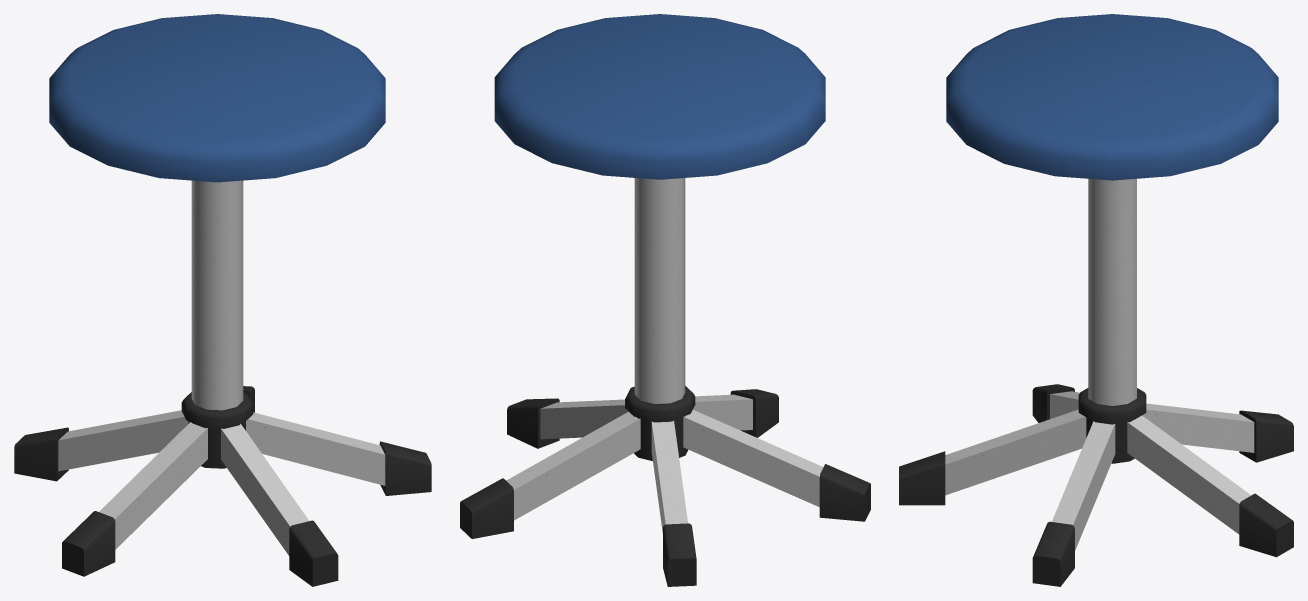
3 renders of one model, left to right at view 1: azimuth 30°, elevation 25°; view 2: azimuth 150°, elevation 25°; view 3: azimuth 270°, elevation 25°, orthographic.
Parts seen in each view (by area): view 1: SM_凳子; view 2: SM_凳子; view 3: SM_凳子.
Boxes of the visible parts, x1=… form: SM_凳子: x1=14, y1=14, x2=431, y2=586; SM_凳子: x1=460, y1=14, x2=870, y2=586; SM_凳子: x1=899, y1=14, x2=1293, y2=586.
Bounding box in the file's own units: 0.4016 × 0.4506 × 0.382.
